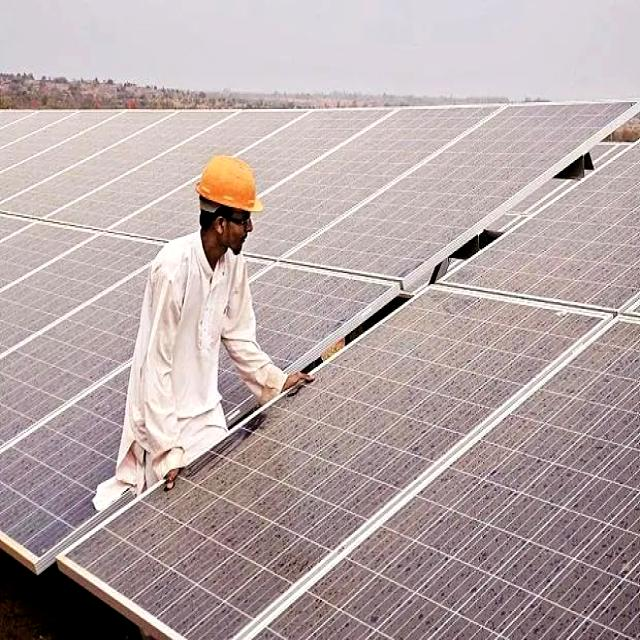dust: (355, 550, 639, 640), (449, 472, 640, 550), (308, 156, 432, 260), (208, 456, 319, 556), (326, 358, 404, 480), (86, 109, 183, 197), (544, 385, 640, 473), (420, 293, 478, 437), (0, 288, 68, 401), (1, 109, 80, 197), (0, 442, 70, 534), (74, 252, 134, 354), (114, 518, 190, 586), (238, 110, 374, 144), (526, 222, 586, 294), (590, 172, 640, 256), (388, 108, 474, 150), (494, 302, 548, 363), (506, 104, 557, 166), (290, 282, 338, 334), (274, 175, 304, 255), (444, 167, 491, 211), (191, 115, 236, 147)
